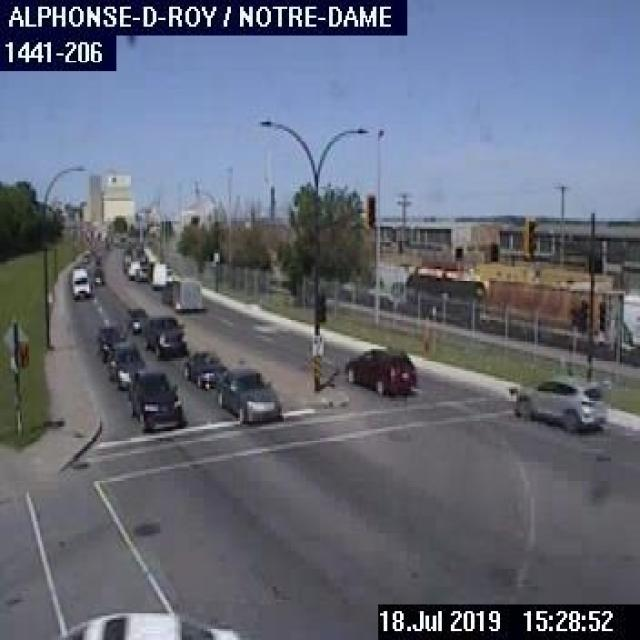vehicle: (49, 604, 242, 638), (509, 371, 611, 429), (211, 360, 283, 430), (124, 366, 187, 433), (342, 342, 418, 393), (143, 310, 188, 360), (180, 346, 227, 387), (108, 339, 146, 388), (160, 273, 207, 312), (68, 263, 92, 302), (126, 304, 148, 334), (89, 266, 104, 288)
